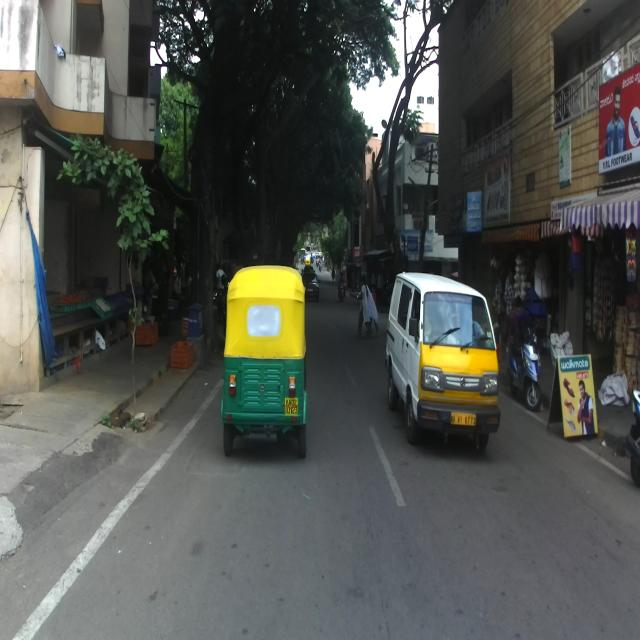auto ahead at: (225, 262, 309, 458)
car ahead at: (387, 270, 500, 453)
plant ahead at: (59, 131, 171, 412)
